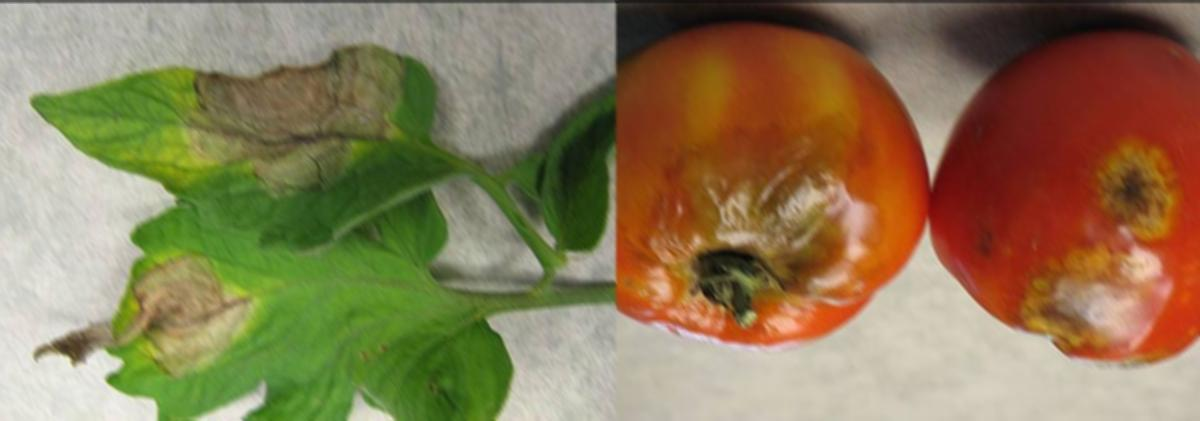Tomato leaf late blight: (6, 12, 486, 255), (26, 203, 551, 415)
